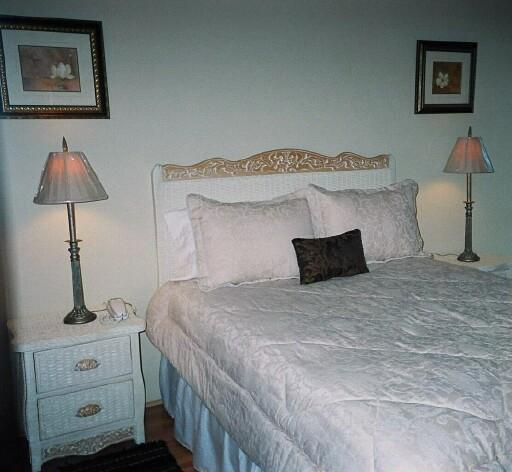Cama: (162, 158, 508, 469)
